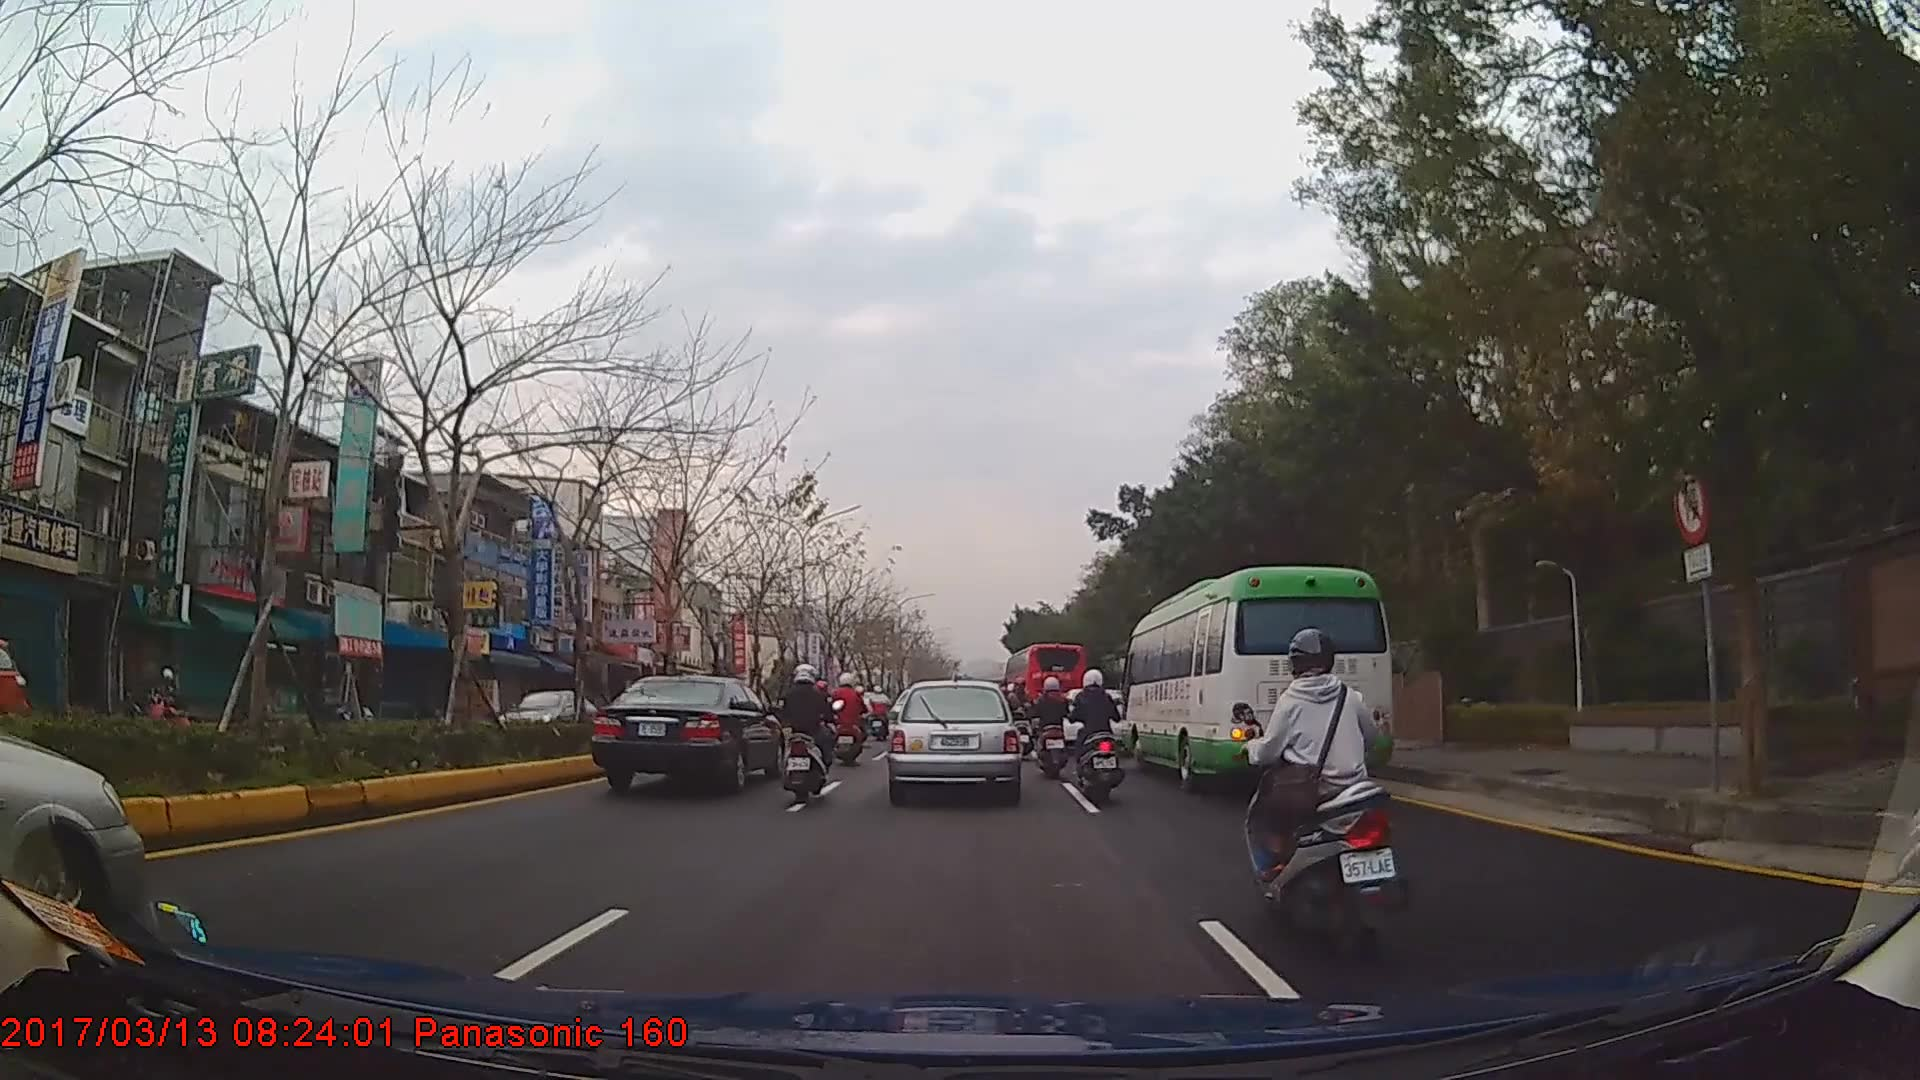rider: (1238, 629, 1406, 953), (779, 661, 844, 804), (1069, 671, 1128, 801), (1032, 673, 1074, 779), (831, 674, 868, 765), (1009, 677, 1034, 757), (847, 685, 873, 742), (870, 683, 893, 731)
vehicle: (1120, 561, 1395, 796), (588, 673, 784, 790), (886, 679, 1021, 802), (1000, 640, 1085, 736), (493, 687, 598, 745)
